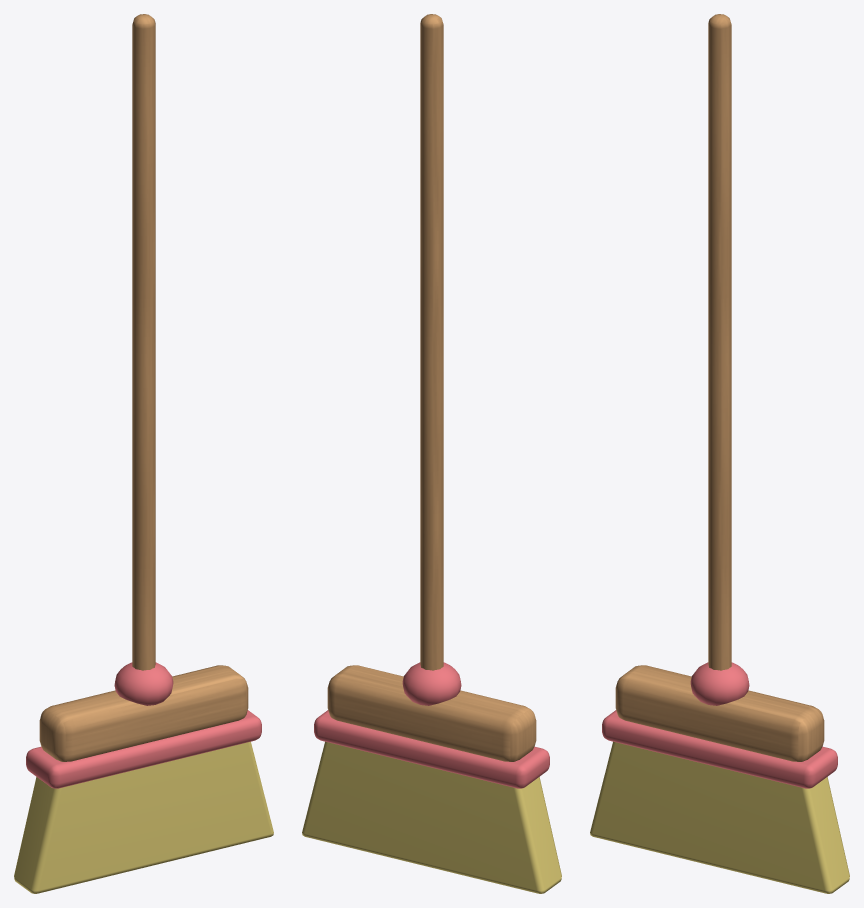
The model's file is prop_broom.glb.
3 views of the same model, side by side, from view 1: azimuth 30°, elevation 25°; view 2: azimuth 150°, elevation 25°; view 3: azimuth 330°, elevation 25° (orthographic).
Parts seen in each view (by area): view 1: prop_broom; view 2: prop_broom; view 3: prop_broom.
Boxes of the visible parts, x1,y1,x2,y2 form: prop_broom: (14,14,273,893); prop_broom: (302,14,561,893); prop_broom: (590,14,849,893).
Size of the model in its own units: 0.3761 by 1.25 by 0.08.
Materials: 3 (1 with a texture image).
